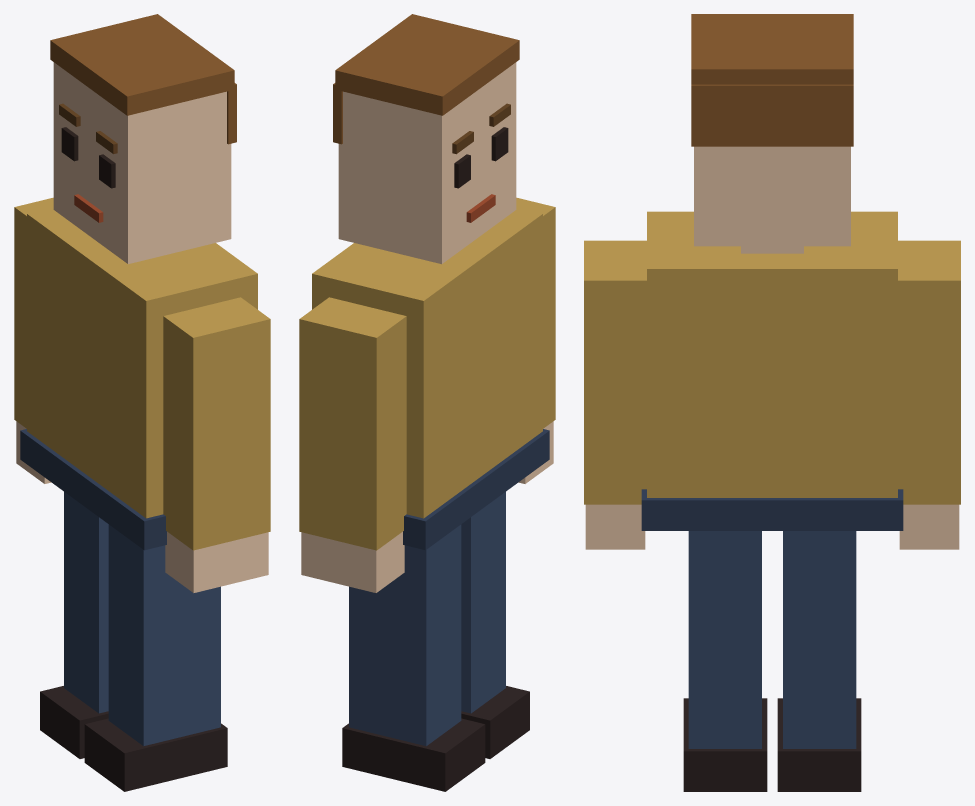
Rendered from hendersons_dad.glb.
3 views of the same model, side by side, from view 1: azimuth 30°, elevation 25°; view 2: azimuth 150°, elevation 25°; view 3: azimuth 270°, elevation 25° (orthographic). The views are drawn at different scales.
Visible parts, largest first — view 1: Box9, Box3, Box12, Box1, Box18, Box5, Box2, Box10, Box4, Box7, Box6, Box19 (+2 smaller); view 2: Box9, Box7, Box12, Box5, Box18, Box1, Box6, Box10, Box8, Box3, Box2, Box19 (+2 smaller); view 3: Box9, Box3, Box7, Box1, Box5, Box12, Box18, Box19, Box10, Box2, Box6, Box4 (+1 smaller).
Boxes of the visible parts, x1,y1,x2,y2 form: Box9: (27, 207, 257, 518); Box3: (163, 297, 270, 550); Box12: (53, 62, 231, 264); Box1: (108, 524, 220, 746); Box18: (50, 14, 234, 115); Box5: (64, 492, 108, 713); Box2: (84, 718, 227, 791); Box10: (20, 429, 166, 550); Box4: (165, 531, 268, 592); Box7: (14, 197, 53, 428); Box6: (40, 686, 108, 758); Box19: (227, 83, 236, 144); Box9: (312, 207, 542, 518); Box7: (299, 297, 406, 550); Box12: (338, 62, 516, 264); Box5: (349, 524, 461, 746); Box18: (335, 14, 519, 115); Box1: (461, 492, 505, 713); Box6: (342, 718, 485, 791); Box10: (403, 429, 549, 550); Box8: (301, 531, 404, 592); Box3: (516, 197, 555, 428); Box2: (461, 686, 529, 758); Box19: (333, 83, 342, 144); Box9: (647, 211, 897, 497); Box3: (584, 240, 646, 504); Box7: (898, 240, 960, 504); Box1: (688, 531, 761, 748); Box5: (783, 531, 856, 748); Box12: (694, 146, 850, 246); Box18: (691, 14, 853, 84); Box19: (691, 84, 853, 146); Box10: (641, 489, 903, 530); Box2: (683, 698, 767, 791); Box6: (777, 698, 861, 791); Box4: (585, 504, 645, 549).
Size of the model in its own units: 0.3175 by 1.74 by 0.8165.
